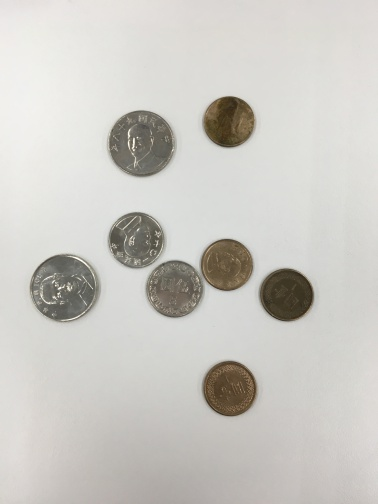1 dollar: (187, 351, 265, 424), (253, 260, 323, 331), (192, 91, 260, 158), (197, 232, 259, 298)
10 dollar: (21, 244, 109, 330), (103, 109, 181, 183)
5 dollar: (137, 256, 209, 325), (104, 207, 169, 273)
